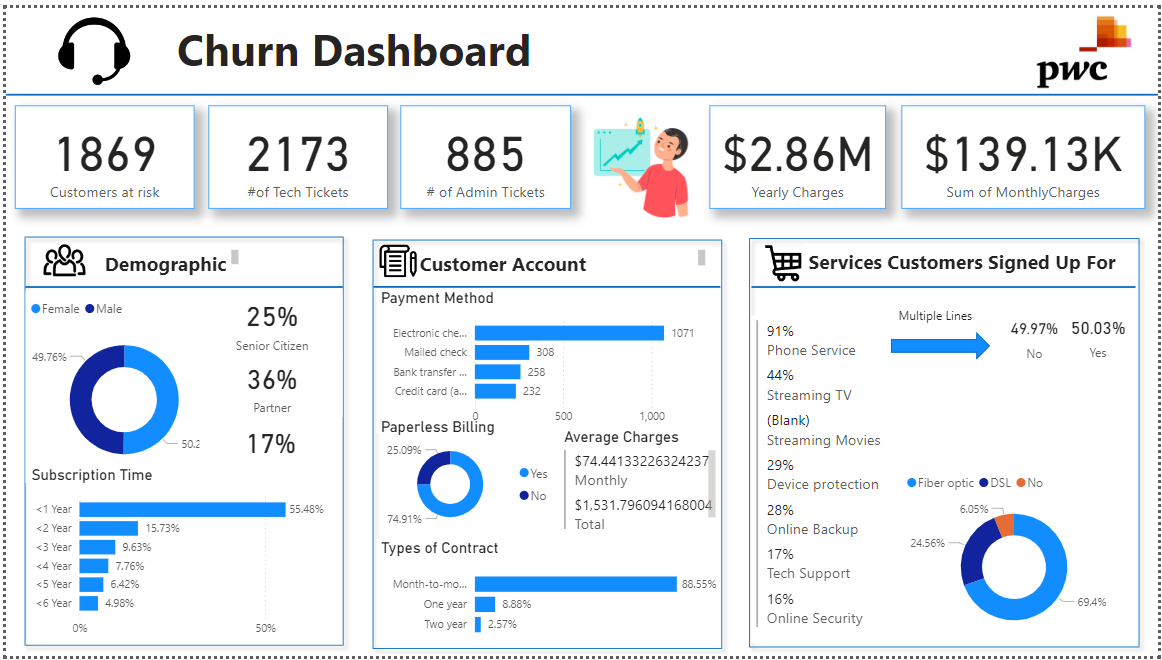

Layout of this report page (visuals, bound fields, positions):
{"tool":"powerbi","page":{"name":"Page 2","canvas":[1280,720],"ordinal":1},"visuals":[{"type":"textbox","box":[184.6,6.5,427.5,79.3],"z":0},{"type":"shape","box":[0,85.8,1280.8,22.7],"z":1000},{"type":"card","fields":{"Values":["Count(01 Churn-Dataset.customerID)"]},"box":[9.7,108.5,199.2,115],"z":2000},{"type":"card","fields":{"Values":["Sum(01 Churn-Dataset.MonthlyCharges)"]},"box":[994.2,108.5,270.4,115],"z":3000},{"type":"card","fields":{"Values":["Sum(01 Churn-Dataset.TotalCharges)"]},"box":[782.1,108.5,195.9,115],"z":4000},{"type":"card","fields":{"Values":["Sum(01 Churn-Dataset.numTechTickets)"]},"box":[225.1,108.5,199.2,115],"z":5000},{"type":"card","fields":{"Values":["Sum(01 Churn-Dataset.numAdminTickets)"]},"box":[438.8,108.5,189.4,115],"z":6000},{"type":"shape","box":[11.2,245,372.5,472.5],"z":7000},{"type":"textbox","box":[105,263.3,158.3,40],"z":8000},{"type":"shape","box":[21.2,305,352.5,10],"z":9000},{"type":"donutChart","fields":{"Category":["01 Churn-Dataset.gender"],"Y":["CountNonNull(01 Churn-Dataset.gender)"]},"box":[21.2,313.8,218.8,213.8],"z":10000},{"type":"card","fields":{"Values":["Churn.% of Senior Citizen"]},"box":[216.2,312.5,157.5,72.5],"z":11000},{"type":"card","fields":{"Values":["Churn.% of Partner"]},"box":[216.2,383.8,157.5,71.2],"z":12000},{"type":"card","fields":{"Values":["Churn.% of Dependents"]},"box":[215,455,157.5,71.2],"z":13000},{"type":"clusteredBarChart","title":"Subscription Time","fields":{"Y":["CountNonNull(Churn.Churn)"],"Category":["Churn.Tenure (In years )"]},"box":[23.8,507.5,346.2,198.8],"z":14000},{"type":"shape","box":[398.3,247.7,406.4,472.8],"z":15000},{"type":"textbox","box":[455,263.3,326.7,41.7],"z":16000},{"type":"shape","box":[408,304.4,385.4,9.7],"z":17000},{"type":"clusteredBarChart","title":"Payment Method","fields":{"Category":["Churn.PaymentMethod"],"Y":["CountNonNull(Churn.PaymentMethod)"]},"box":[411.3,310.9,382.1,160.3],"z":18000},{"type":"donutChart","title":"Paperless Billing","fields":{"Category":["Churn.PaperlessBilling"],"Y":["CountNonNull(Churn.PaperlessBilling)"]},"box":[411.3,455,204,127.9],"z":19000},{"type":"multiRowCard","title":"Average Charges","fields":{"Values":["Avg(Churn.MonthlyCharges)","Avg(Churn.TotalCharges)"]},"box":[615.3,466.3,178.1,116.6],"z":20000},{"type":"clusteredBarChart","title":"Types of Contract","fields":{"Category":["Churn.Contract"],"Y":["CountNonNull(Churn.Contract)"]},"box":[411.3,589.4,382.1,118.2],"z":21000},{"type":"shape","box":[816.1,247.2,451.8,472.8],"z":22000},{"type":"multiRowCard","fields":{"Values":["Churn.% Phone Service","Churn.% Streaming TV","Churn.% Streaming Movies","Churn.% Device protection","Churn.% Online Backup","Churn.% Tech Support","Churn.% Online Sec."]},"box":[829,341.7,176.5,364.3],"z":23000},{"type":"shape","box":[982.9,359.5,110.1,30.8],"z":24000},{"type":"textbox","box":[986.1,327.1,115,30.8],"z":25000},{"type":"card","fields":{"Values":["Churn.% No-Multiple Lines"]},"box":[1102.7,335.2,77.7,61.5],"z":26000},{"type":"card","fields":{"Values":["Churn.% Yes-Multiple Lines"]},"box":[1172.3,328.7,82.6,71.2],"z":27000},{"type":"donutChart","title":"Paperless Billing","fields":{"Category":["Churn.InternetService"],"Y":["CountNonNull(Churn.InternetService)"]},"box":[994.2,506.8,249.4,199.2],"z":28000},{"type":"image","box":[1118.9,3.2,158.7,90.7],"z":29000},{"type":"image","box":[11.3,1.6,173.3,92.3],"z":30000},{"type":"image","box":[631.7,108.3,148.3,136.7],"z":31000},{"type":"textbox","box":[886.7,261.7,368.3,43.3],"z":32000},{"type":"shape","box":[828.3,305,426.7,10],"z":33000},{"type":"image","box":[828.3,258.3,70,50],"z":34000},{"type":"image","box":[31.7,251.7,66.7,56.7],"z":35000},{"type":"image","box":[408.3,255,55,51.7],"z":36000}]}

Visuals, with their boxes in screenshot pixels (x1, y1, x2, y2), scaled from the page's 1280x720 canvas onto the 1162x660 screenshot:
textbox: (168,6,556,79)
shape: (0,79,1161,99)
card - Count(01 Churn-Dataset.customerID): (9,99,190,205)
card - Sum(01 Churn-Dataset.MonthlyCharges): (903,99,1148,205)
card - Sum(01 Churn-Dataset.TotalCharges): (710,99,888,205)
card - Sum(01 Churn-Dataset.numTechTickets): (204,99,385,205)
card - Sum(01 Churn-Dataset.numAdminTickets): (398,99,570,205)
shape: (10,225,348,658)
textbox: (95,241,239,278)
shape: (19,280,339,289)
donutChart - 01 Churn-Dataset.gender x CountNonNull(01 Churn-Dataset.gender): (19,288,218,484)
card - Churn.% of Senior Citizen: (196,286,339,353)
card - Churn.% of Partner: (196,352,339,417)
card - Churn.% of Dependents: (195,417,338,482)
"Subscription Time" clusteredBarChart: (22,465,336,647)
shape: (362,227,731,659)
textbox: (413,241,710,280)
shape: (370,279,720,288)
"Payment Method" clusteredBarChart: (373,285,720,432)
"Paperless Billing" donutChart: (373,417,559,534)
"Average Charges" multiRowCard: (559,427,720,534)
"Types of Contract" clusteredBarChart: (373,540,720,649)
shape: (741,227,1151,659)
multiRowCard - Churn.% Phone Service x Churn.% Streaming TV: (753,313,913,647)
shape: (892,330,992,358)
textbox: (895,300,1000,328)
card - Churn.% No-Multiple Lines: (1001,307,1072,364)
card - Churn.% Yes-Multiple Lines: (1064,301,1139,367)
"Paperless Billing" donutChart: (903,465,1129,647)
image: (1016,3,1160,86)
image: (10,1,168,86)
image: (573,99,708,225)
textbox: (805,240,1139,280)
shape: (752,280,1139,289)
image: (752,237,815,283)
image: (29,231,89,283)
image: (371,234,421,281)
